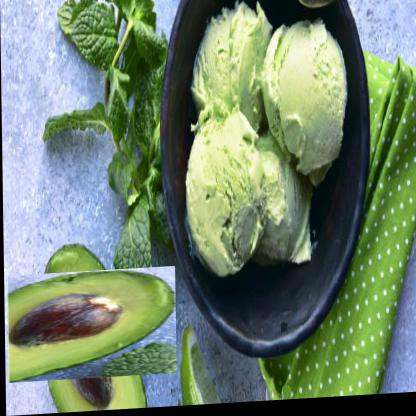avocado: (22, 254, 162, 399)
